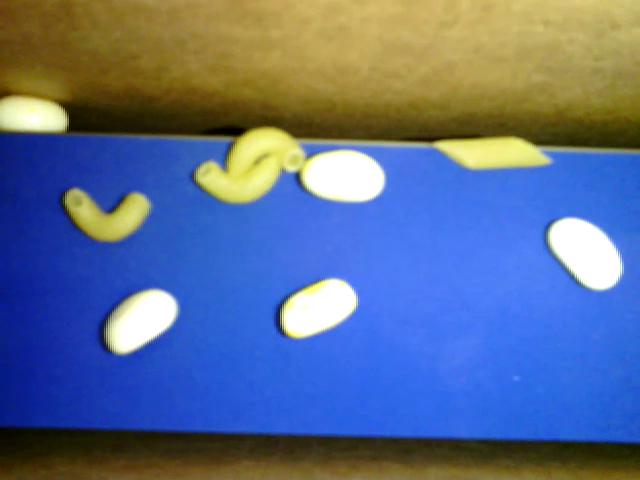elbow: (63, 188, 150, 241), (196, 153, 282, 205), (225, 126, 306, 177)
penne: (431, 136, 554, 170)
